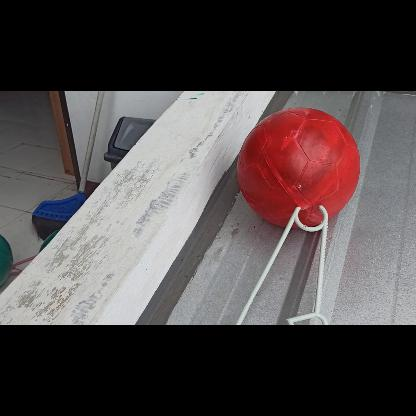red_ball: (240, 107, 362, 229)
